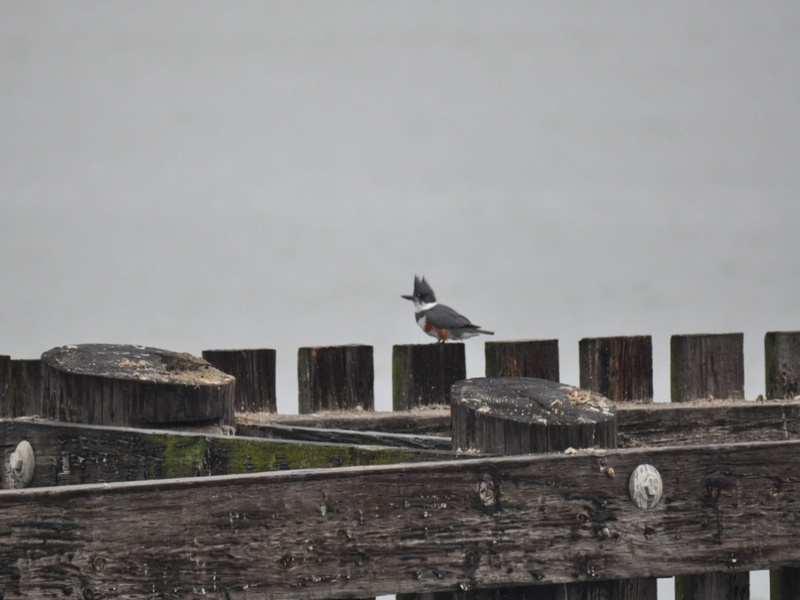kingfisher: (400, 274, 493, 342)
